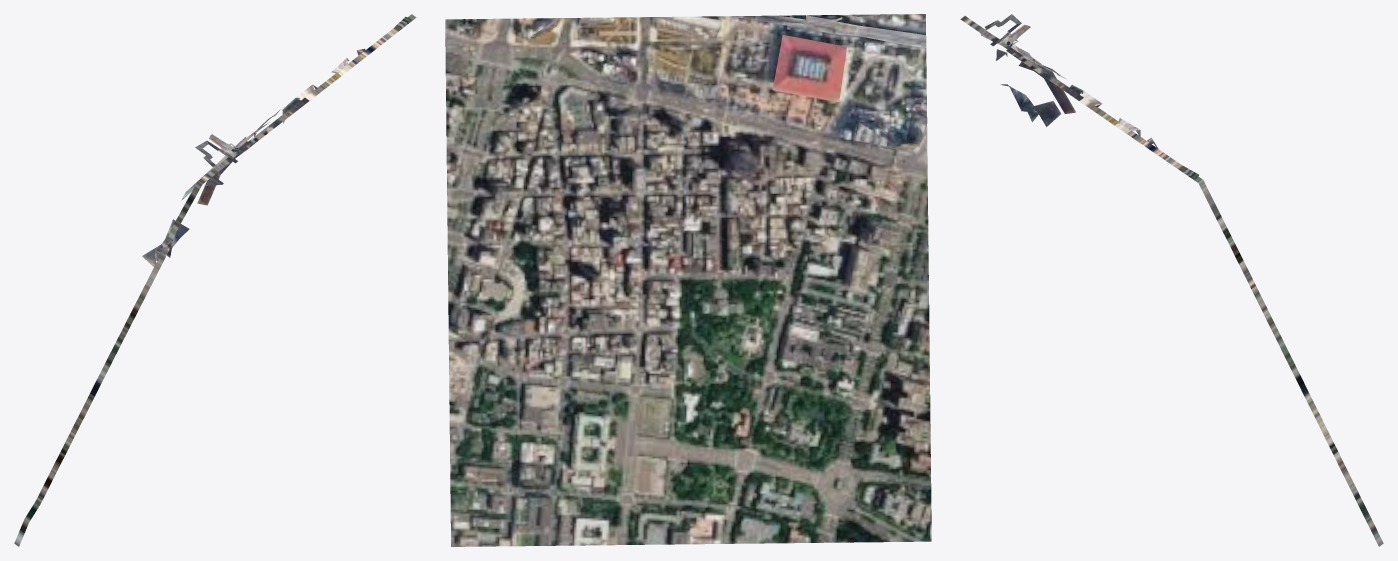
3 views of the same model, side by side, from view 1: azimuth 30°, elevation 25°; view 2: azimuth 150°, elevation 25°; view 3: azimuth 270°, elevation 25° (orthographic). The views are drawn at different scales.
Size of the model in its own units: 1222 by 1141 by 1031.
Materials: 1 (1 with a texture image).
